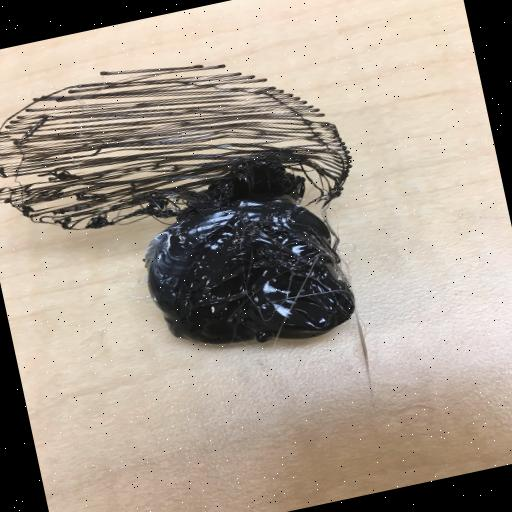stringing: (0, 15, 379, 275)
